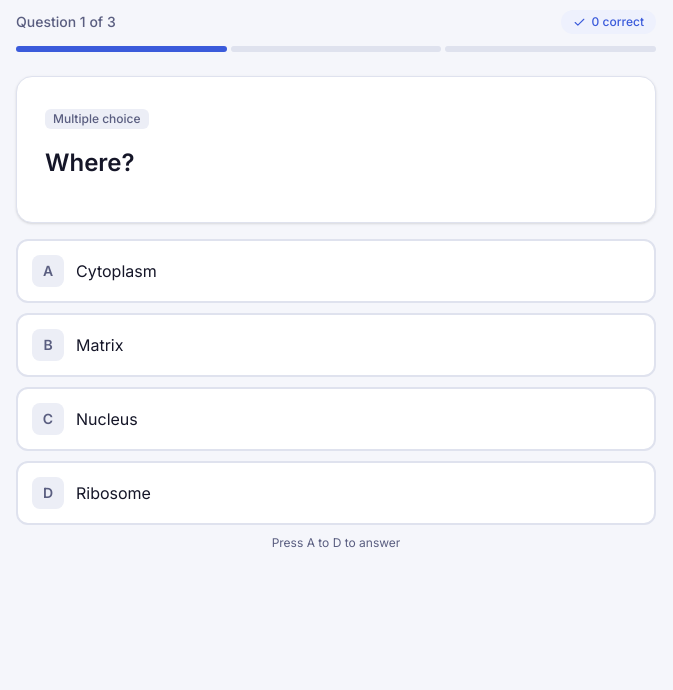
it: the quiz player › marks right and wrong with an icon and words, not colour alone, and colours the progress segments
Click the button "A Cytoplasm" at (48, 271), box [16, 239, 656, 303]
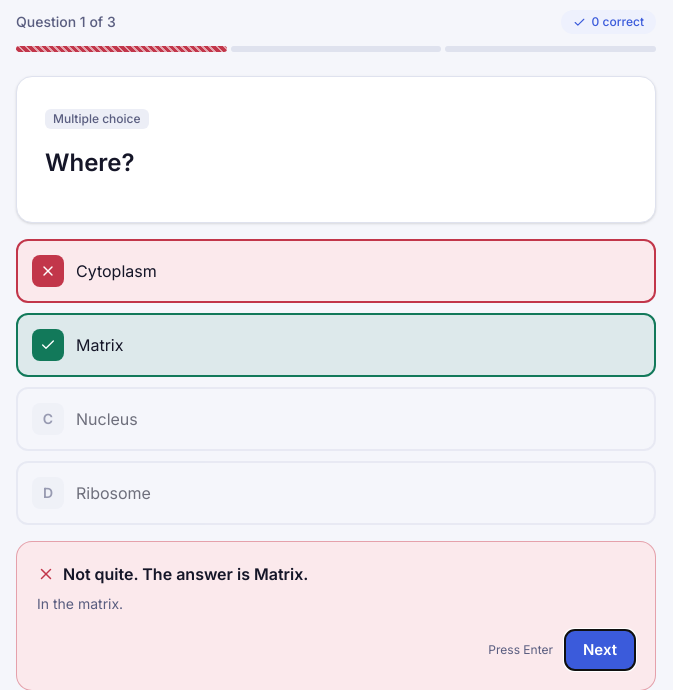
Check: the text "Not quite. The answer is Matrix." is shown, box [37, 564, 308, 584]
